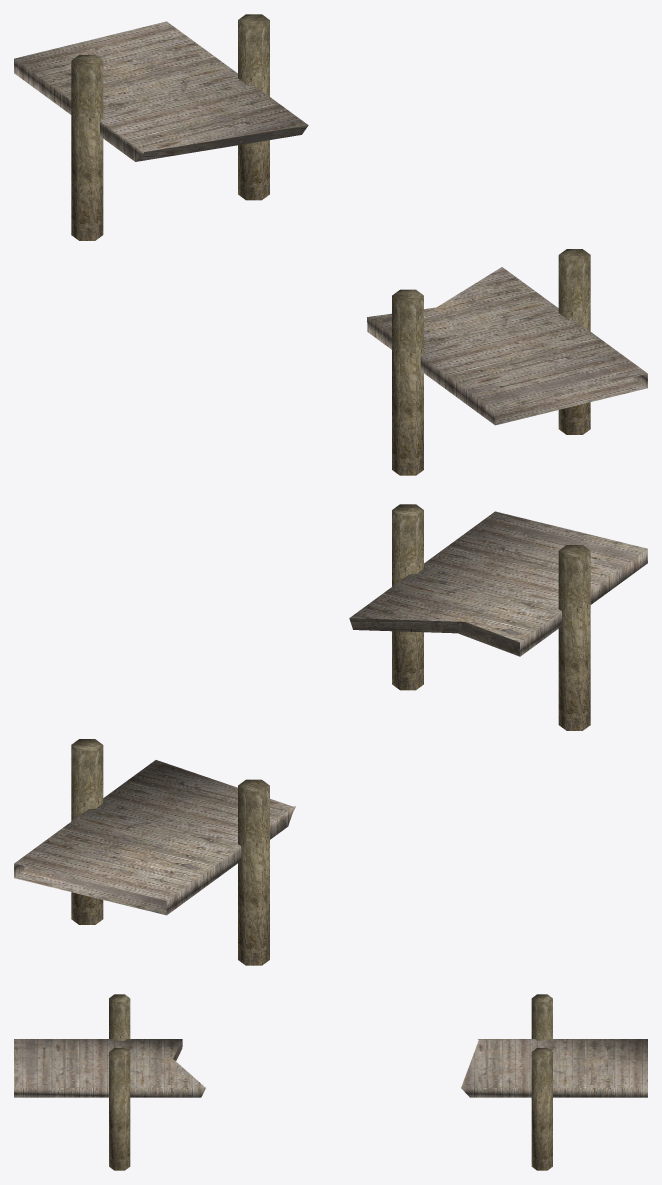
The model's file is Bridge_I-Tile_Broken.fbx.
3 views of the same model, one above another, from view 1: azimuth 30°, elevation 25°; view 2: azimuth 150°, elevation 25°; view 3: azimuth 270°, elevation 25° (orthographic). The views are drawn at different scales.
Parts seen in each view (by area): view 1: Bridge.I-Tile.Broken; view 2: Bridge.I-Tile.Broken; view 3: Bridge.I-Tile.Broken.
Part boxes in pixels (x1,y1,x2,y2): Bridge.I-Tile.Broken: (14, 14, 647, 475); Bridge.I-Tile.Broken: (14, 504, 647, 965); Bridge.I-Tile.Broken: (14, 994, 647, 1170).
Size of the model in its own units: 68.66 by 59.95 by 300.
